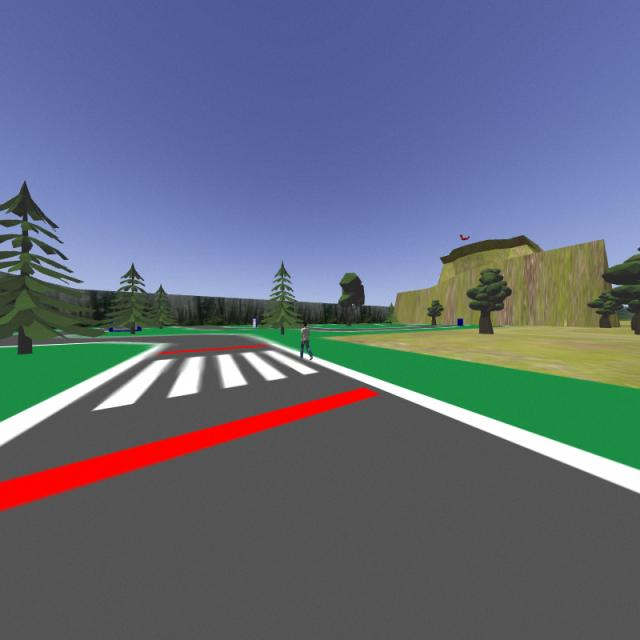pedestrian: (298, 320, 314, 364)
